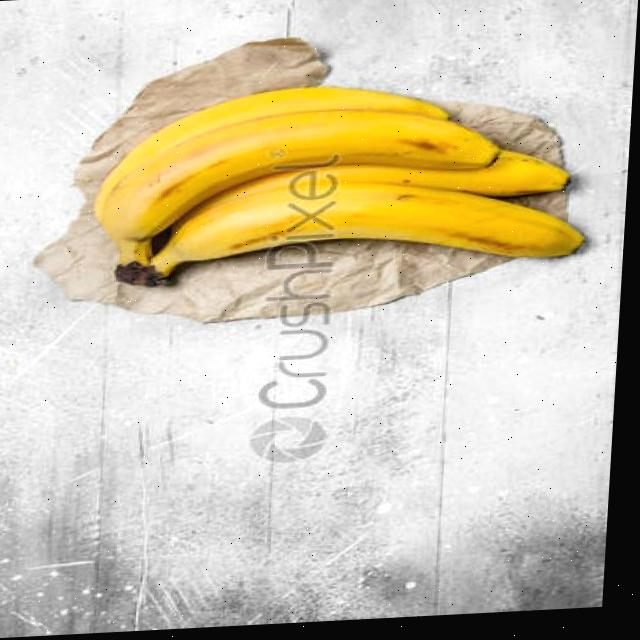banana: (87, 67, 603, 292)
